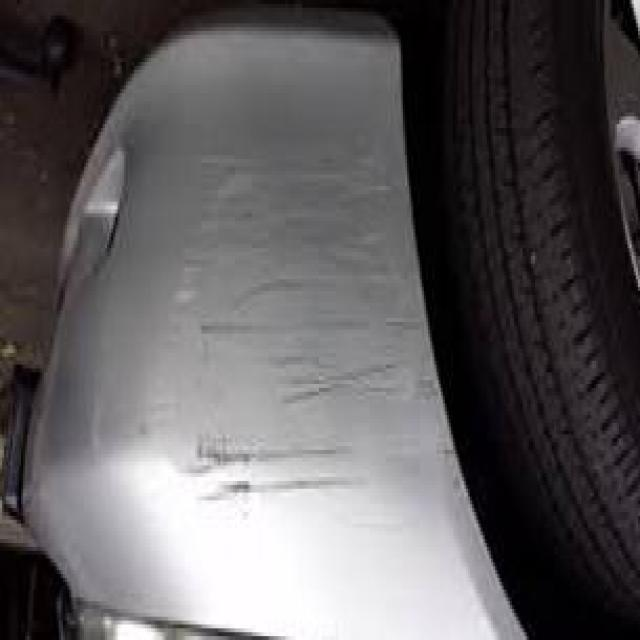scratch: (158, 134, 418, 522)
